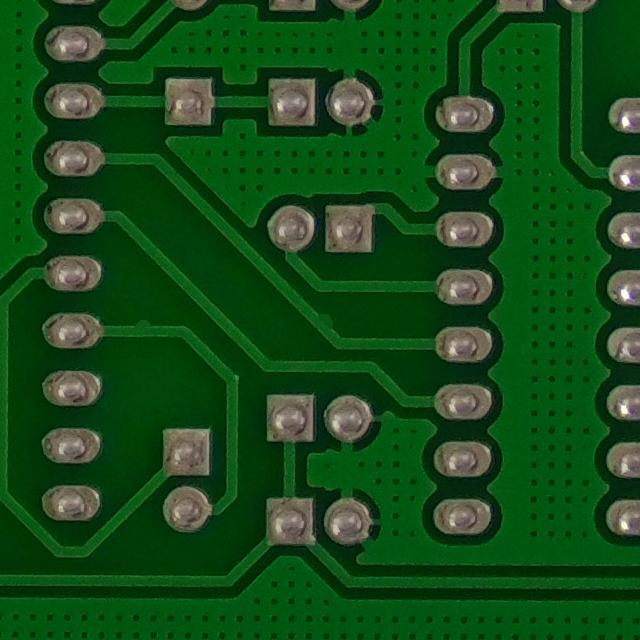spur: (299, 297, 342, 344)
